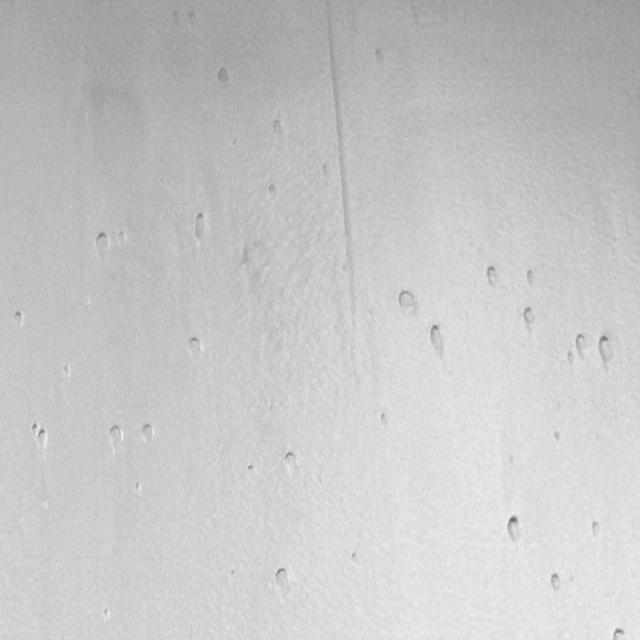pin holes: (423, 321, 448, 361), (594, 333, 619, 370), (394, 287, 419, 316), (570, 332, 593, 363), (504, 514, 526, 546), (90, 230, 112, 261), (192, 211, 212, 244), (105, 422, 127, 452), (183, 333, 204, 362), (273, 565, 294, 593), (31, 424, 52, 451), (279, 450, 300, 476), (215, 64, 235, 88), (484, 264, 503, 288), (548, 570, 567, 594), (138, 422, 156, 447), (270, 118, 288, 142), (523, 267, 539, 291), (520, 305, 537, 327), (11, 309, 29, 329), (589, 517, 603, 541), (373, 46, 388, 68), (611, 625, 632, 640), (377, 408, 392, 429), (187, 7, 201, 27), (61, 363, 74, 382), (266, 183, 280, 200), (348, 549, 362, 564), (132, 479, 144, 496), (118, 229, 130, 246), (319, 162, 331, 179), (552, 431, 564, 446), (101, 606, 112, 622), (244, 464, 257, 477), (228, 568, 240, 581)
